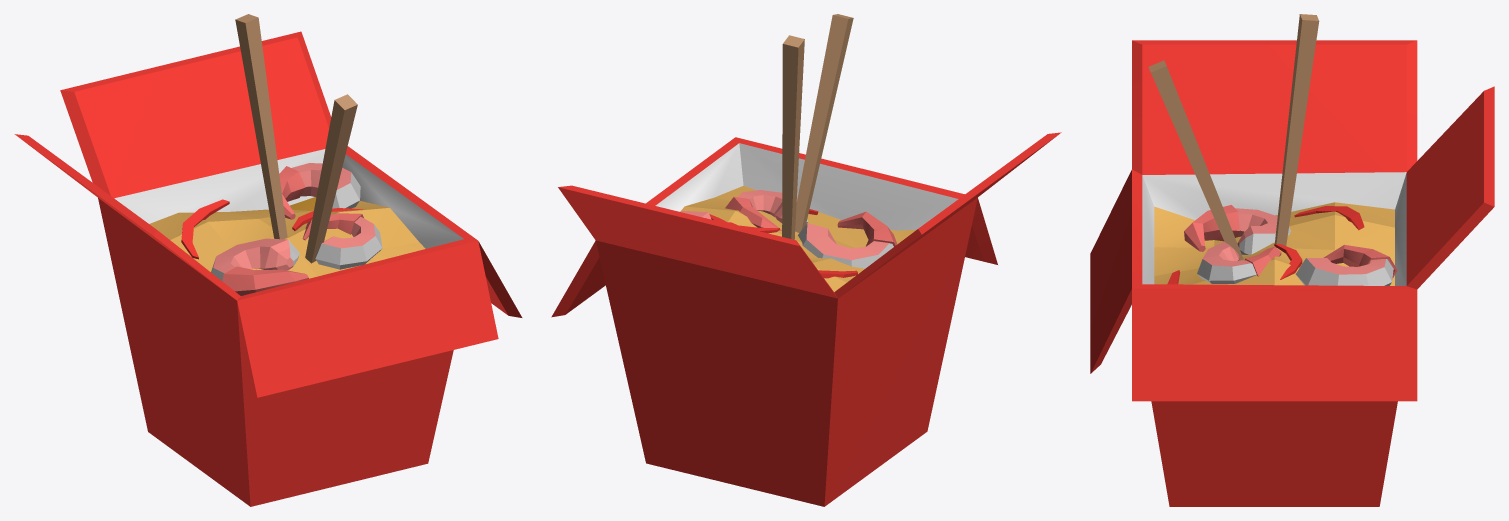
Rendered from SM_Food_Wok_01.fbx.
3 renders of one model, left to right at view 1: azimuth 30°, elevation 25°; view 2: azimuth 150°, elevation 25°; view 3: azimuth 270°, elevation 25°, orthographic. The views are drawn at different scales.
Visible parts, largest first — view 1: SM_Food_Wok_01; view 2: SM_Food_Wok_01; view 3: SM_Food_Wok_01.
Part boxes in pixels (x1=…): SM_Food_Wok_01: x1=14, y1=14, x2=522, y2=506; SM_Food_Wok_01: x1=551, y1=14, x2=1061, y2=506; SM_Food_Wok_01: x1=1090, y1=14, x2=1494, y2=506.
Bounding box in the file's own units: 23.37 × 25.67 × 21.63.
